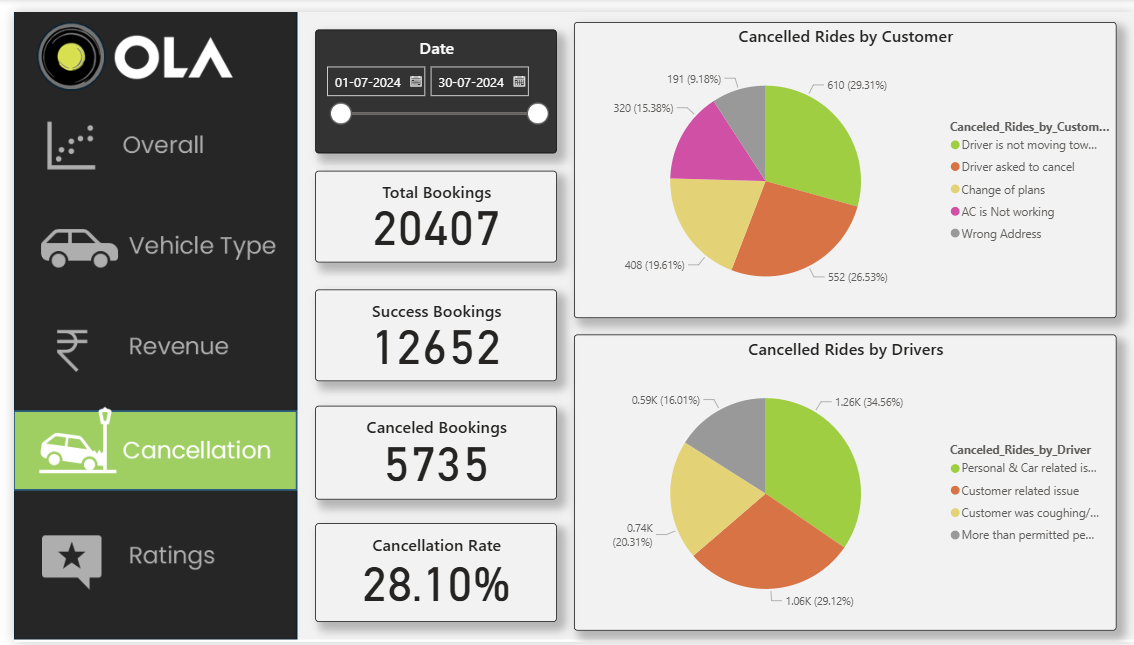

What the dashboard file says about the page in this screenshot:
{"tool":"powerbi","page":{"name":"Cancellation","canvas":[1280,720],"ordinal":3},"visuals":[{"type":"actionButton","box":[0,220.8,324.5,96.5],"z":0},{"type":"actionButton","box":[0,339,324.5,96.5],"z":1000},{"type":"actionButton","box":[0,575.5,324.5,96.5],"z":2000},{"type":"actionButton","box":[0,103.8,324.5,96.5],"z":3000},{"type":"pieChart","title":"Cancelled Rides by Customer","fields":{"Y":["CountNonNull(July.Booking_Status)"],"Category":["July.Canceled_Rides_by_Customer"]},"box":[640,11.2,620,338.8],"z":4000},{"type":"pieChart","title":"Cancelled Rides by Drivers","fields":{"Y":["CountNonNull(July.Booking_Status)"],"Category":["July.Canceled_Rides_by_Driver"]},"box":[640,368.8,620,338.8],"z":5000},{"type":"slicer","title":"Date","fields":{"Values":["July.Date"]},"box":[345,20,276.2,141.2],"z":6000},{"type":"card","title":"Total Bookings","fields":{"Values":["Count(July.Booking_ID)"]},"box":[345,181.2,276.2,105],"z":7000},{"type":"card","title":"Success Bookings","fields":{"Values":["Count(July.Booking_ID)"]},"box":[345,317.5,276.2,105],"z":8000},{"type":"card","title":"Canceled Bookings","fields":{"Values":["Count(July.Booking_ID)"]},"box":[345,450,276.2,107.5],"z":9000},{"type":"card","title":"Cancellation Rate","fields":{"Values":["July.CanceledBookingPercentage"]},"box":[343.8,583.8,276.2,112.5],"z":10000}]}

Visuals, with their boxes in screenshot pixels (x1, y1, x2, y2), scaled from the page's 1280x720 canvas onto the 1134x645 screenshot:
actionButton: select_region(0, 198, 287, 284)
actionButton: select_region(0, 304, 287, 390)
actionButton: select_region(0, 516, 287, 602)
actionButton: select_region(0, 93, 287, 179)
"Cancelled Rides by Customer" pieChart: select_region(567, 10, 1116, 314)
"Cancelled Rides by Drivers" pieChart: select_region(567, 330, 1116, 634)
"Date" slicer: select_region(306, 18, 550, 144)
"Total Bookings" card: select_region(306, 162, 550, 256)
"Success Bookings" card: select_region(306, 284, 550, 378)
"Canceled Bookings" card: select_region(306, 403, 550, 499)
"Cancellation Rate" card: select_region(305, 523, 549, 624)
